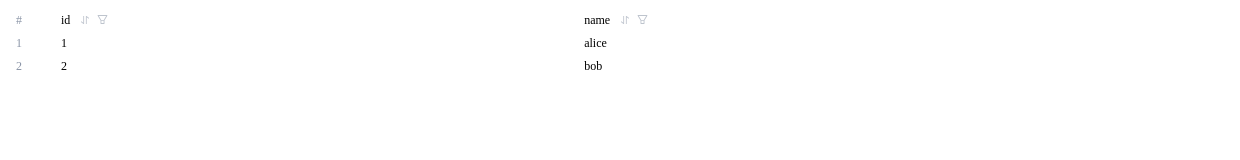
DatabaseResultPane - inline editing › shows an input on double click when editable and pk present
This screenshot has width=1240, height=160.
Row 0, cells: [index-td, id-td, name-td]
Double-click the cell with class "db-result__td" showing "alice" at (595, 43), box [574,32,1223,55]
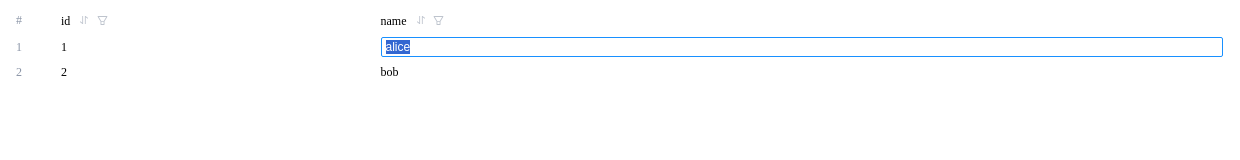
Expected: the field with class "db-result__cell-input" is shown, [380,37,1223,57]
